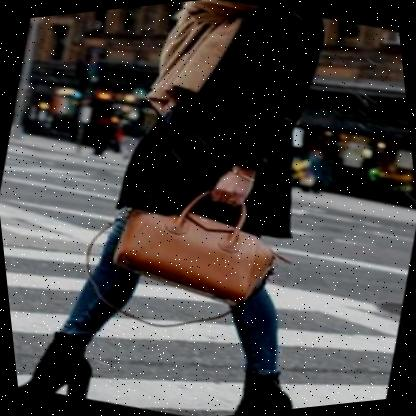bag: (75, 170, 294, 336)
